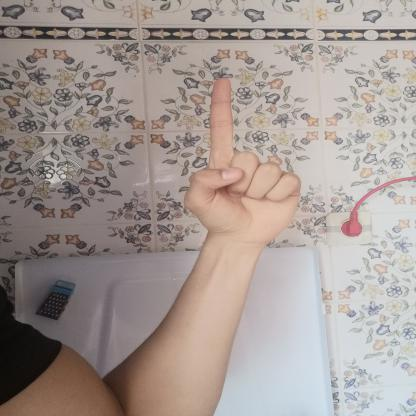BAA: (167, 69, 316, 249)
